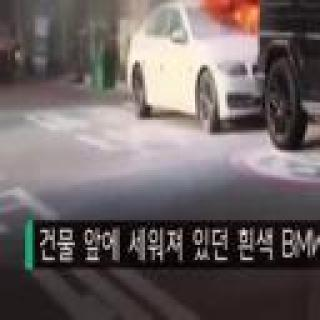fire: (205, 0, 277, 30)
